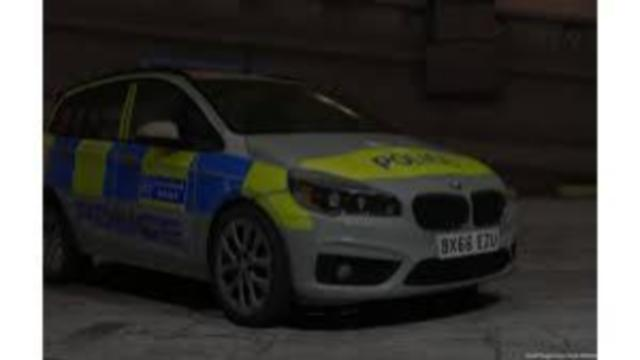police_car: (43, 62, 521, 329)
